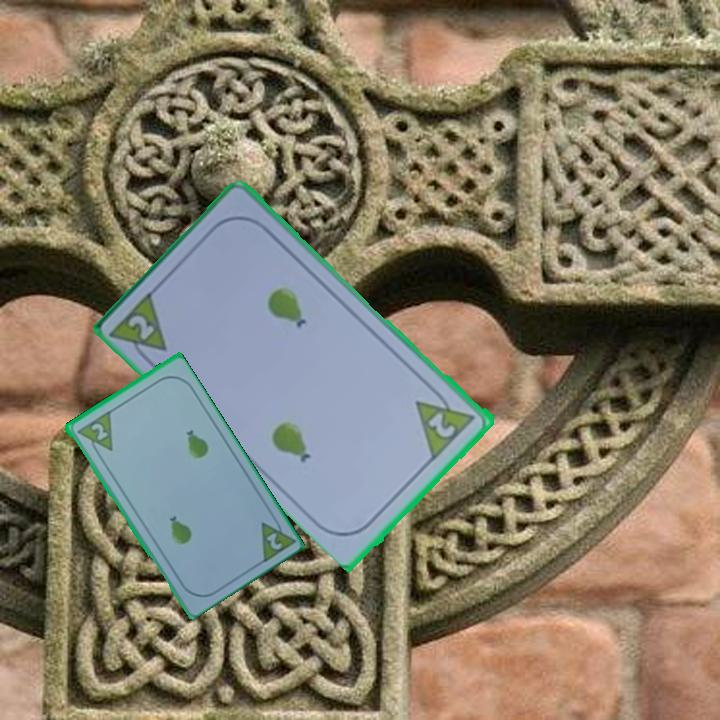2p: (108, 286, 172, 370), (412, 382, 480, 461), (73, 408, 116, 460), (257, 510, 296, 566)
